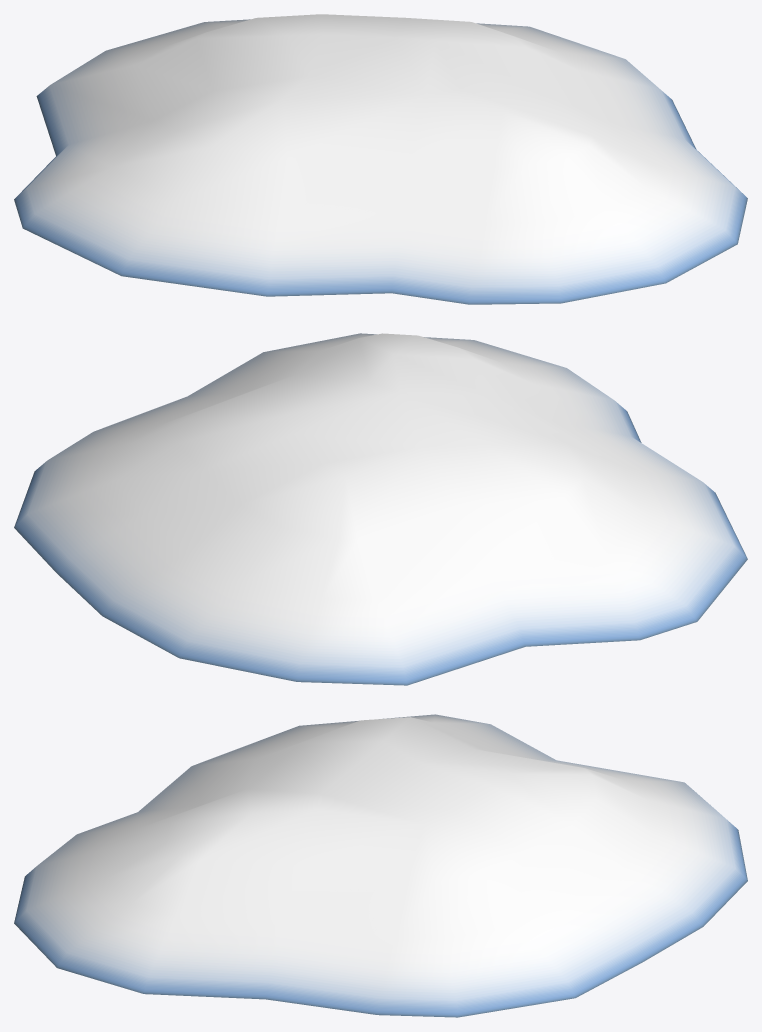
The model's file is deco_winter_snowPatchB.FBX.
The picture shows the model from 3 angles, top to bottom: view 1: azimuth 30°, elevation 25°; view 2: azimuth 150°, elevation 25°; view 3: azimuth 270°, elevation 25°; orthographic projection. The views are drawn at different scales.
Parts seen in each view (by area): view 1: deco_winter_snowPatchB; view 2: deco_winter_snowPatchB; view 3: deco_winter_snowPatchB.
Boxes of the visible parts, x1=… form: deco_winter_snowPatchB: x1=14, y1=14, x2=747, y2=304; deco_winter_snowPatchB: x1=14, y1=333, x2=747, y2=685; deco_winter_snowPatchB: x1=14, y1=714, x2=747, y2=1017.
Size of the model in its own units: 3.65 by 0.5178 by 3.81.
Materials: 1 (1 with a texture image).
